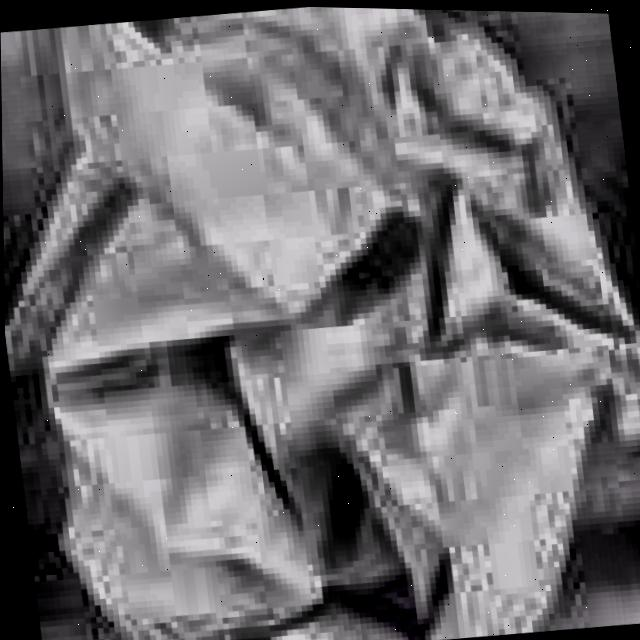paper: (3, 5, 640, 640)
